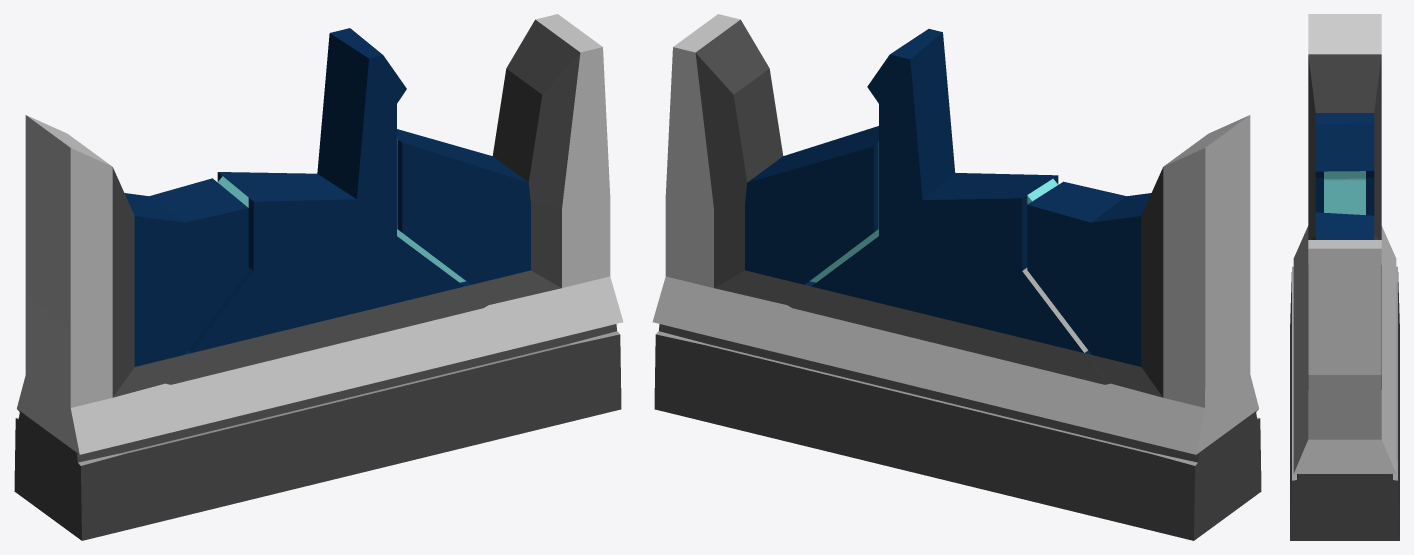
Rendered from Outer_Wall_Destroyed_B.fbx.
3 renders of one model, left to right at view 1: azimuth 30°, elevation 25°; view 2: azimuth 150°, elevation 25°; view 3: azimuth 270°, elevation 25°, orthographic. The views are drawn at different scales.
Visible parts, largest first — view 1: Outer_Wall_Destroyed_B; view 2: Outer_Wall_Destroyed_B; view 3: Outer_Wall_Destroyed_B.
Boxes of the visible parts, x1,y1,x2,y2 form: Outer_Wall_Destroyed_B: [14, 14, 623, 540]; Outer_Wall_Destroyed_B: [652, 14, 1261, 540]; Outer_Wall_Destroyed_B: [1290, 14, 1399, 540].
Size of the model in its own units: 5.87 by 1.26 by 4.1.
